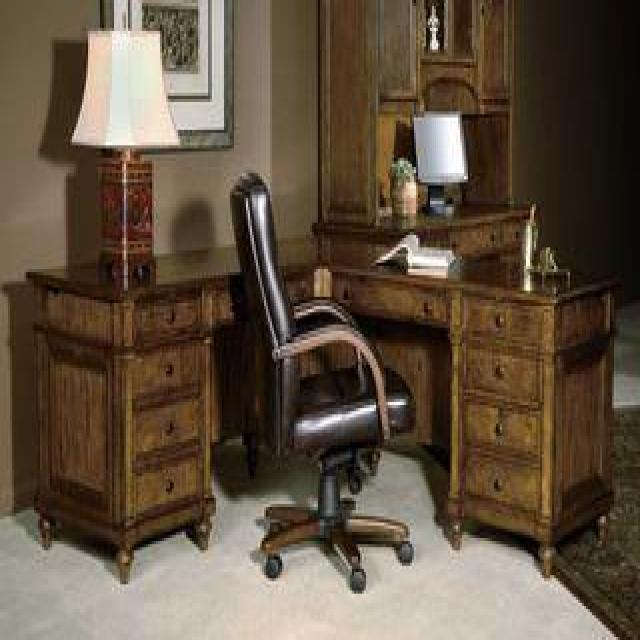book: (372, 232, 454, 269)
chair: (228, 170, 414, 591)
lamps: (70, 22, 180, 284)
pots: (390, 173, 416, 217)
rugs: (548, 402, 638, 637)
television: (410, 109, 468, 214)
windows: (98, 0, 234, 151)
